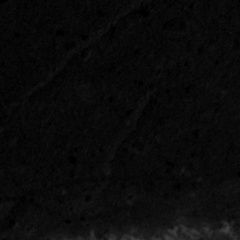Vegetation: (168, 226, 240, 240)
